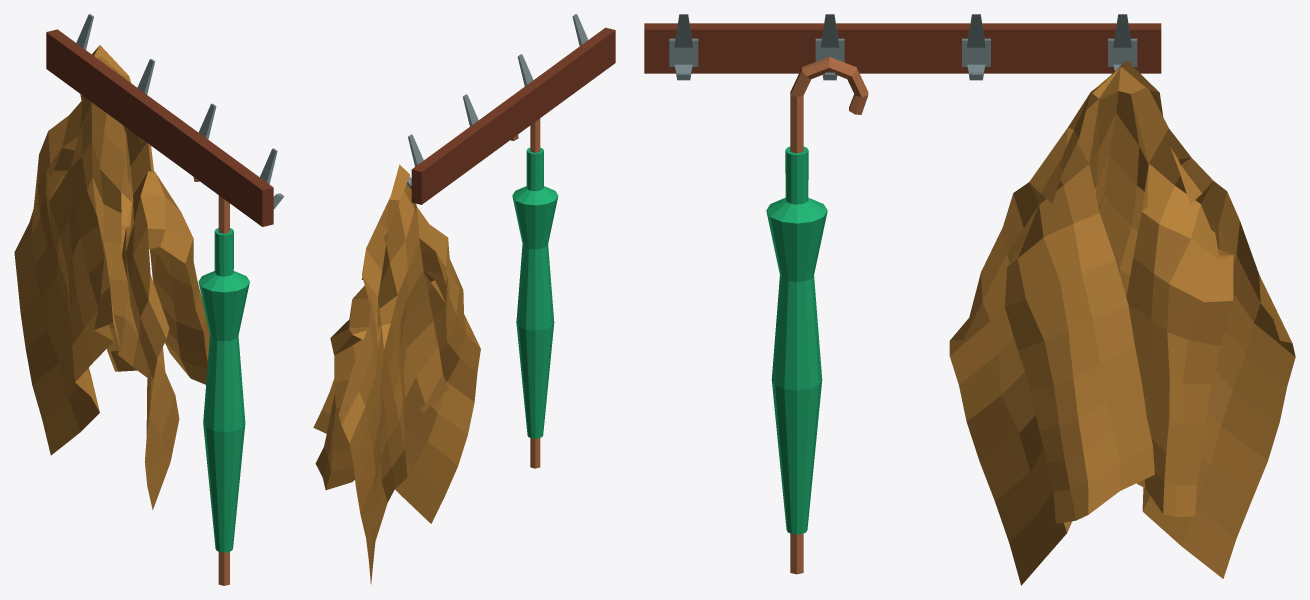
Rendered from coat_hanger.fbx.
3 renders of one model, left to right at view 1: azimuth 30°, elevation 25°; view 2: azimuth 150°, elevation 25°; view 3: azimuth 270°, elevation 25°, orthographic. The views are drawn at different scales.
Visible parts, largest first — view 1: Cylinder, hanger, fabric, umbrella, hook_003; view 2: Cylinder, hanger, fabric, umbrella; view 3: Cylinder, hanger, fabric, umbrella, hook_003, hook, hook_001, hook_002.
Part boxes in pixels (bbox=[...]): Cylinder: bbox=[14, 45, 209, 509]; hanger: bbox=[46, 29, 273, 226]; fabric: bbox=[198, 228, 249, 552]; umbrella: bbox=[193, 177, 229, 585]; hook_003: bbox=[260, 148, 284, 208]; Cylinder: bbox=[313, 164, 480, 584]; hanger: bbox=[411, 27, 615, 204]; fabric: bbox=[512, 147, 558, 438]; umbrella: bbox=[510, 118, 540, 468]; Cylinder: bbox=[949, 60, 1295, 585]; hanger: bbox=[644, 23, 1161, 73]; fabric: bbox=[766, 146, 827, 534]; umbrella: bbox=[790, 56, 868, 574]; hook_003: bbox=[669, 14, 698, 80]; hook: bbox=[962, 14, 990, 80]; hook_001: bbox=[1108, 14, 1137, 70]; hook_002: bbox=[815, 14, 844, 80].
Size of the model in its own units: 0.3764 by 1.19 by 1.24.
